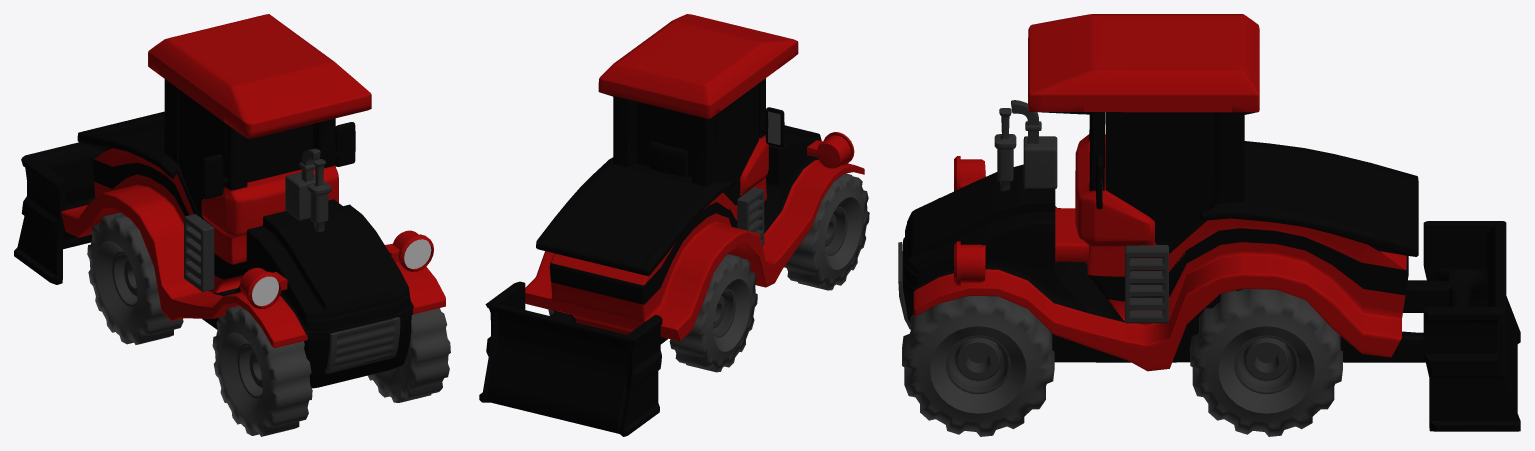
Rendered from tractor3.fbx.
3 views of the same model, side by side, from view 1: azimuth 30°, elevation 25°; view 2: azimuth 150°, elevation 25°; view 3: azimuth 270°, elevation 25° (orthographic). The views are drawn at different scales.
Visible parts, largest first — view 1: tractor3_base1, tractor3_wheel_outer2, tractor3_wheel_outer1, tractor3_glass, tractor3_wheel_outer3, tractor3_grate, tractor3_ladder1, tractor3_tank, tractor3_pump, tractor3_wheel_inner2, tractor3_wheel_inner1, tractor3_mirror_frame1 (+5 smaller); view 2: tractor3_base1, tractor3_glass, tractor3_wheel_outer2, tractor3_wheel_outer1, tractor3_light_frame2, tractor3_ladder1, tractor3_seat, tractor3_wheel_inner2, tractor3_wheel_inner1, tractor3_mirror_reflective1, tractor3_mirror_frame1; view 3: tractor3_base1, tractor3_wheel_outer4, tractor3_wheel_outer3, tractor3_glass, tractor3_ladder2, tractor3_wheel_inner3, tractor3_wheel_inner4, tractor3_tank, tractor3_light_frame1, tractor3_pump, tractor3_light_frame2.
Boxes of the visible parts, x1=… form: tractor3_base1: x1=14, y1=14, x2=445, y2=388; tractor3_wheel_outer2: x1=212, y1=305, x2=312, y2=436; tractor3_wheel_outer1: x1=87, y1=212, x2=183, y2=344; tractor3_glass: x1=178, y1=89, x2=312, y2=215; tractor3_wheel_outer3: x1=368, y1=308, x2=450, y2=402; tractor3_grate: x1=325, y1=317, x2=400, y2=373; tractor3_ladder1: x1=184, y1=214, x2=214, y2=292; tractor3_tank: x1=285, y1=148, x2=320, y2=220; tractor3_pump: x1=307, y1=159, x2=331, y2=232; tractor3_wheel_inner2: x1=237, y1=343, x2=262, y2=398; tractor3_wheel_inner1: x1=112, y1=251, x2=137, y2=306; tractor3_mirror_frame1: x1=202, y1=154, x2=228, y2=199; tractor3_base1: x1=479, y1=14, x2=864, y2=436; tractor3_glass: x1=637, y1=83, x2=758, y2=198; tractor3_wheel_outer2: x1=784, y1=173, x2=869, y2=290; tractor3_wheel_outer1: x1=669, y1=254, x2=757, y2=372; tractor3_light_frame2: x1=807, y1=132, x2=854, y2=168; tractor3_ladder1: x1=737, y1=187, x2=764, y2=245; tractor3_seat: x1=649, y1=141, x2=687, y2=177; tractor3_wheel_inner2: x1=825, y1=207, x2=847, y2=255; tractor3_wheel_inner1: x1=713, y1=288, x2=735, y2=337; tractor3_mirror_reflective1: x1=768, y1=111, x2=780, y2=145; tractor3_mirror_frame1: x1=761, y1=107, x2=784, y2=147; tractor3_base1: x1=903, y1=14, x2=1520, y2=431; tractor3_wheel_outer4: x1=1190, y1=289, x2=1342, y2=436; tractor3_wheel_outer3: x1=902, y1=296, x2=1054, y2=436; tractor3_glass: x1=1105, y1=112, x2=1214, y2=242; tractor3_ladder2: x1=1125, y1=245, x2=1168, y2=323; tractor3_wheel_inner3: x1=945, y1=335, x2=1010, y2=394; tractor3_wheel_inner4: x1=1234, y1=335, x2=1299, y2=394; tractor3_tank: x1=1011, y1=100, x2=1057, y2=189; tractor3_light_frame1: x1=954, y1=241, x2=985, y2=285; tractor3_pump: x1=994, y1=108, x2=1016, y2=191; tractor3_light_frame2: x1=954, y1=156, x2=985, y2=191.
Size of the model in its own units: 313 by 484 by 789.
